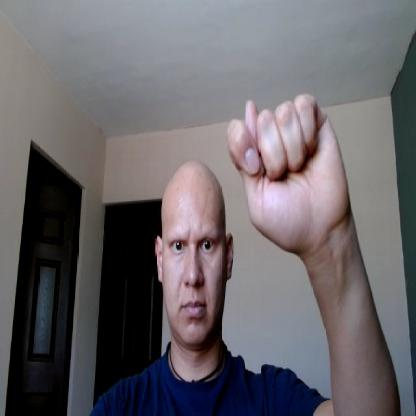T: (228, 88, 348, 252)
